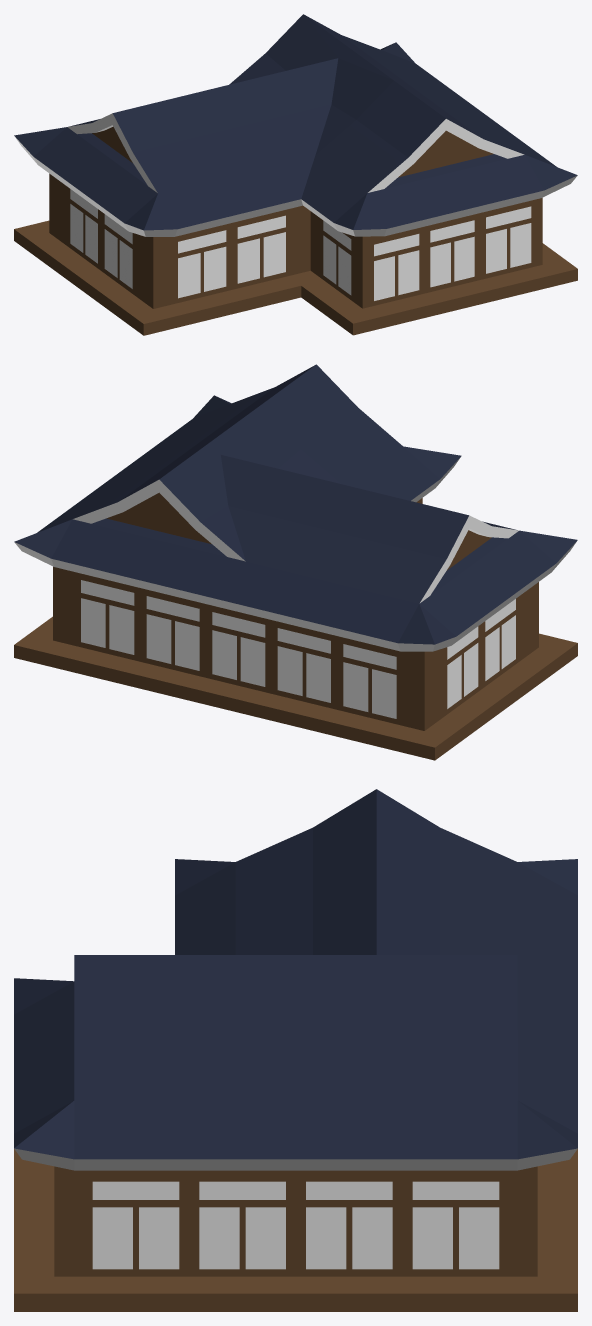
The model's file is building-japan.glb.
3 renders of one model, top to bottom at view 1: azimuth 30°, elevation 25°; view 2: azimuth 150°, elevation 25°; view 3: azimuth 270°, elevation 25°, orthographic. The views are drawn at different scales.
Parts seen in each view (by area): view 1: building-japan; view 2: building-japan; view 3: building-japan.
Boxes of the visible parts, bbox=[...] form: building-japan: bbox=[14, 14, 577, 335]; building-japan: bbox=[14, 364, 577, 760]; building-japan: bbox=[14, 789, 577, 1311].
Size of the model in its own units: 17 by 7.44 by 14.
Materials: 1 (1 with a texture image).
